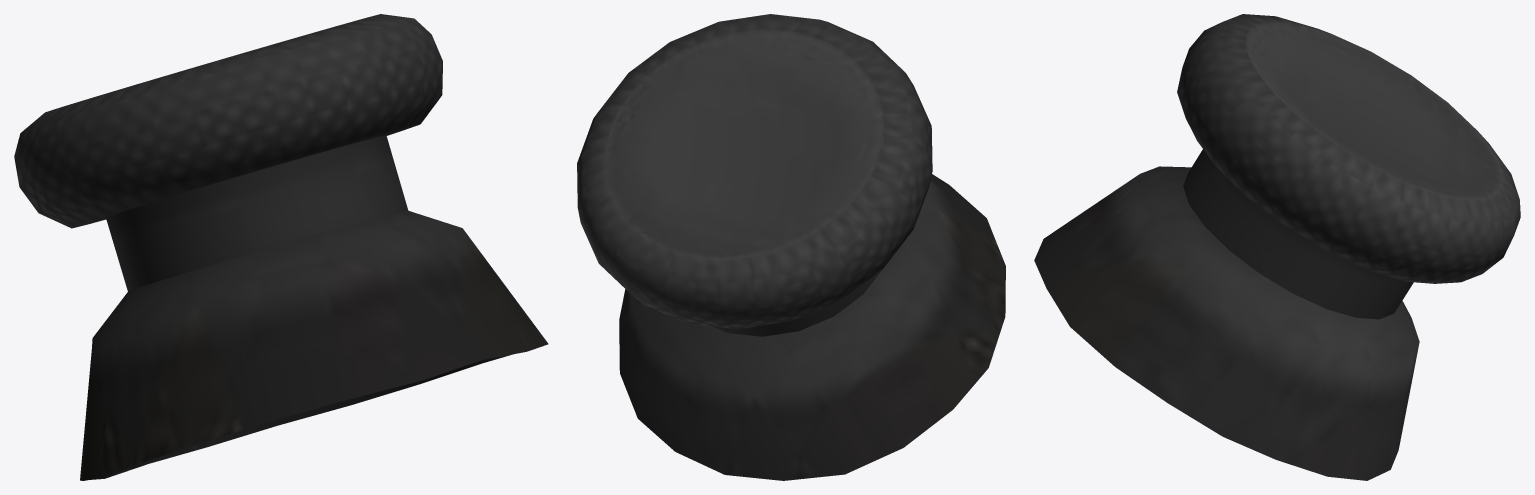
3 renders of one model, left to right at view 1: azimuth 30°, elevation 25°; view 2: azimuth 150°, elevation 25°; view 3: azimuth 270°, elevation 25°, orthographic. The views are drawn at different scales.
Bounding box in the file's own units: 0.015 × 0.0162 × 0.0175.
1 material, 1 textured.
